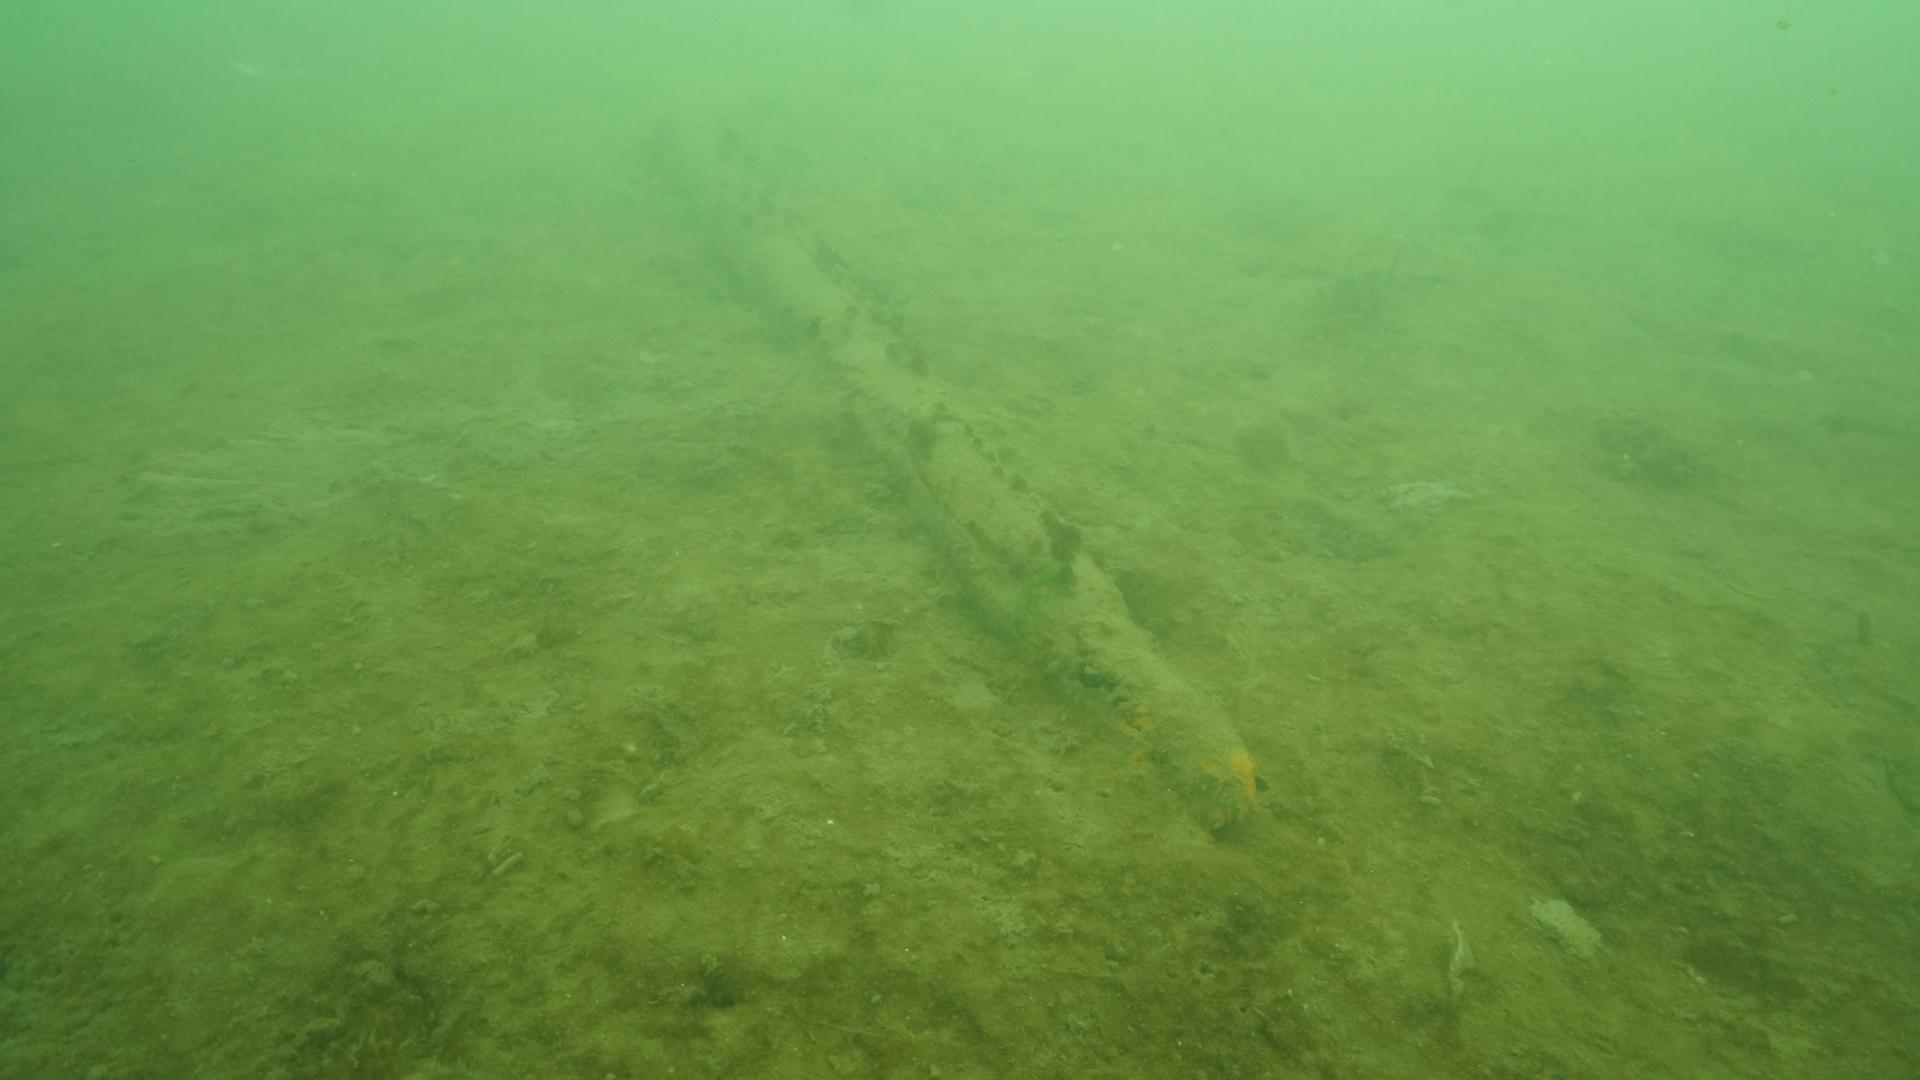wood: (669, 127, 1263, 829)
